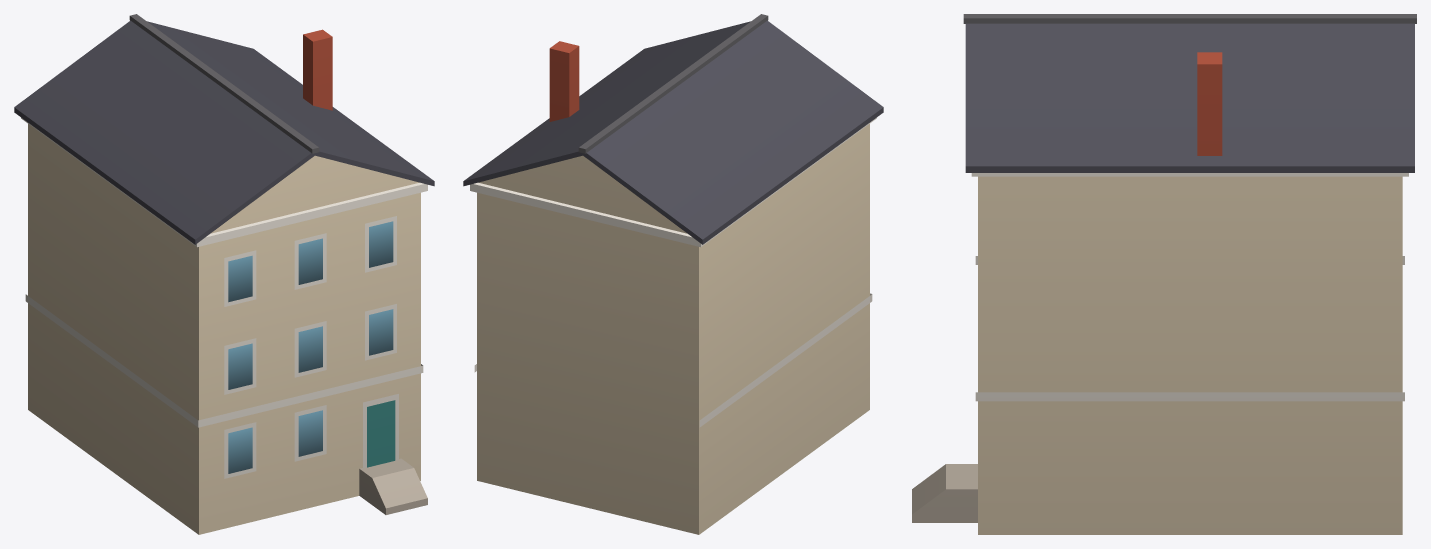
The model's file is lane_e5_far.glb.
3 views of the same model, side by side, from view 1: azimuth 30°, elevation 25°; view 2: azimuth 150°, elevation 25°; view 3: azimuth 270°, elevation 25° (orthographic). The views are drawn at different scales.
Visible parts, largest first — view 1: lane_e5_far; view 2: lane_e5_far; view 3: lane_e5_far.
Boxes of the visible parts, x1,y1,x2,y2 form: lane_e5_far: (14,14,434,534); lane_e5_far: (463,14,883,534); lane_e5_far: (912,14,1416,534).
Bounding box in the file's own units: 9.7 × 14.68 × 14.26.
1 material, 1 textured.
